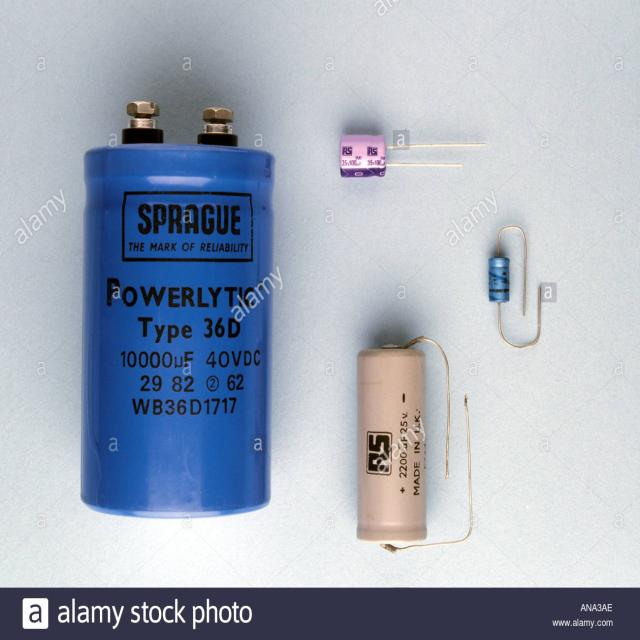capacitor: (356, 336, 472, 552), (489, 225, 543, 349), (339, 134, 485, 178)
